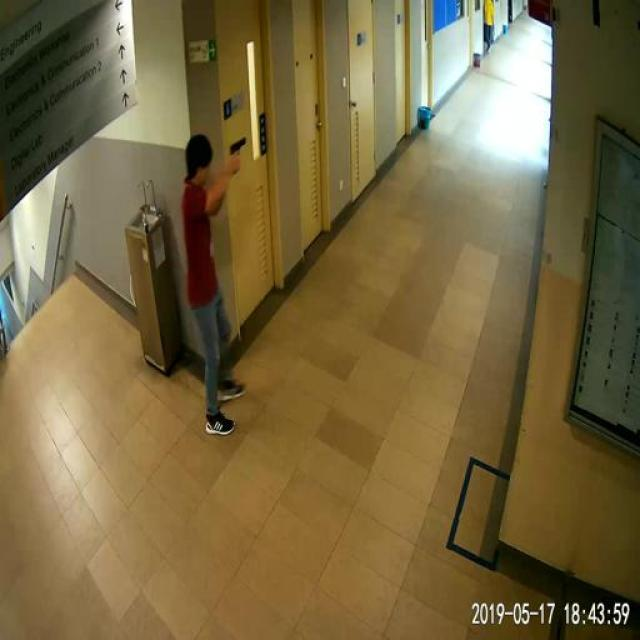Gun: (222, 128, 261, 170)
